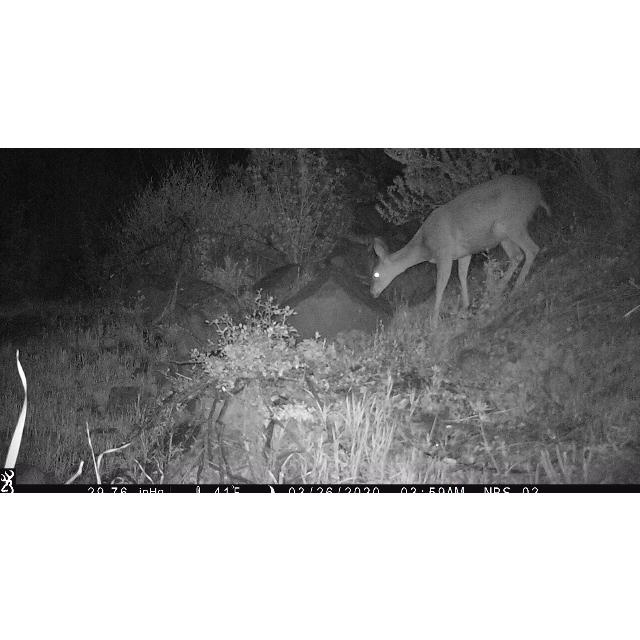animals: (368, 172, 552, 328)
